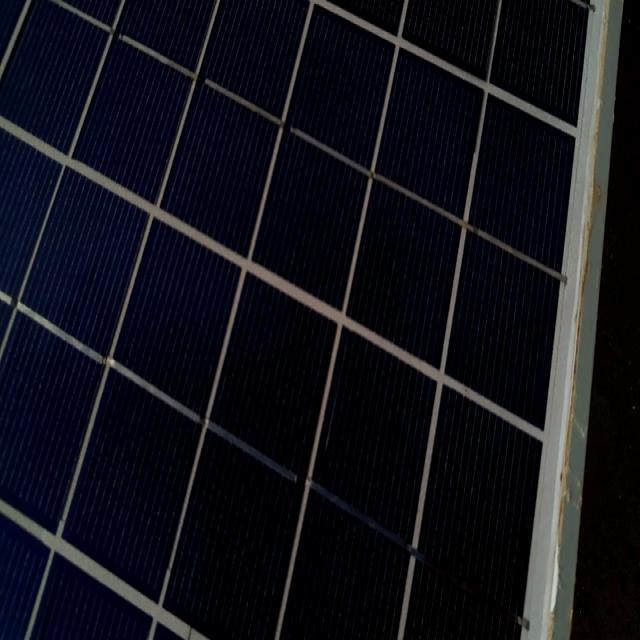Normal Solar Panel: (0, 1, 622, 640)
